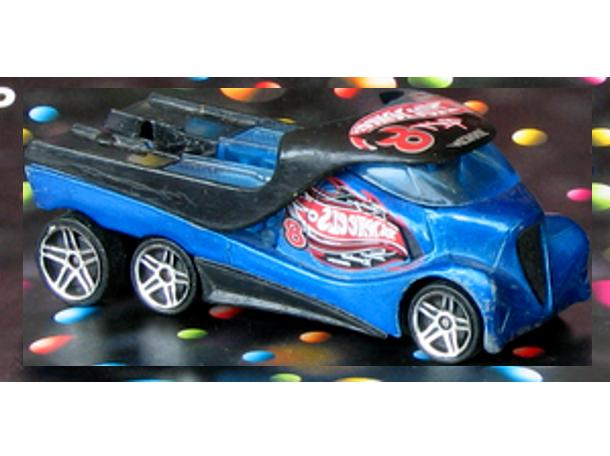toy-car: (24, 89, 593, 367)
